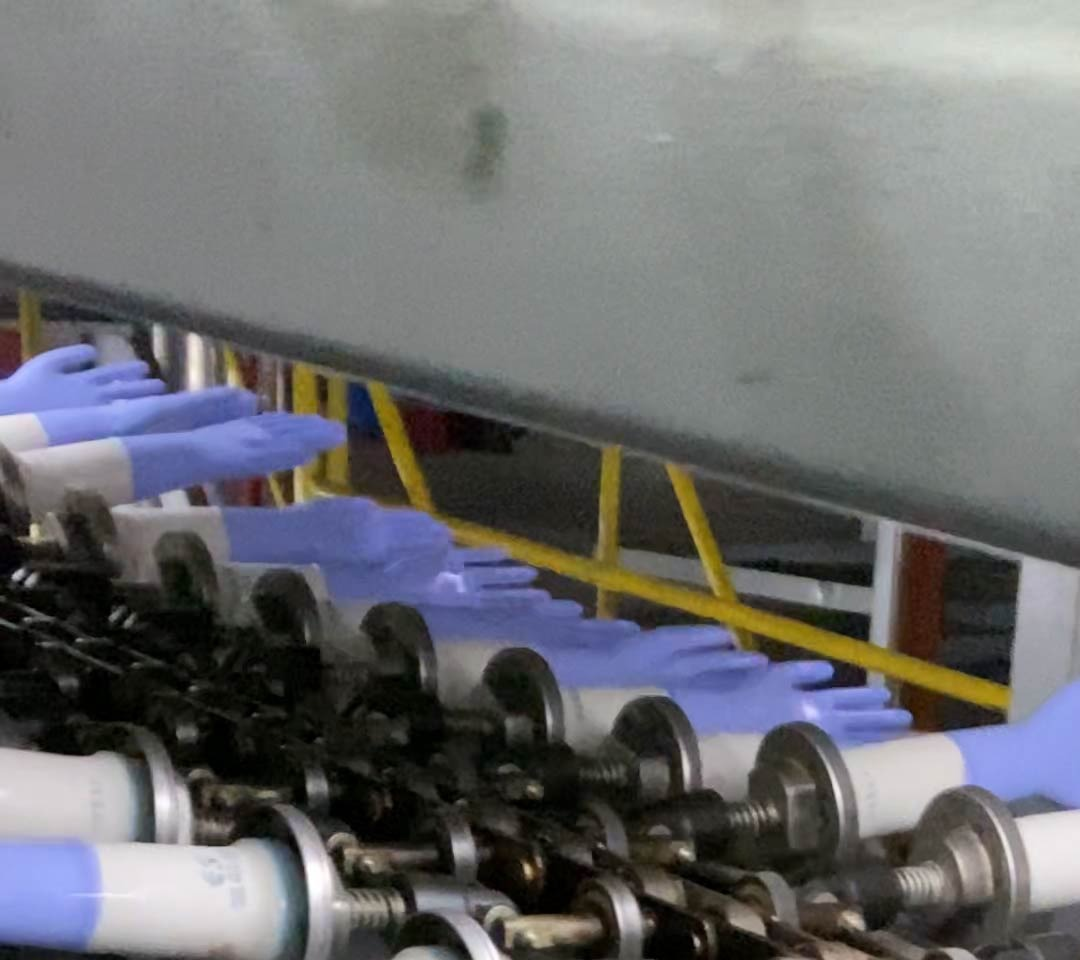glove: (679, 658, 914, 745), (216, 491, 447, 565), (125, 411, 351, 484), (316, 550, 549, 614), (1, 340, 166, 417), (38, 390, 264, 442)
